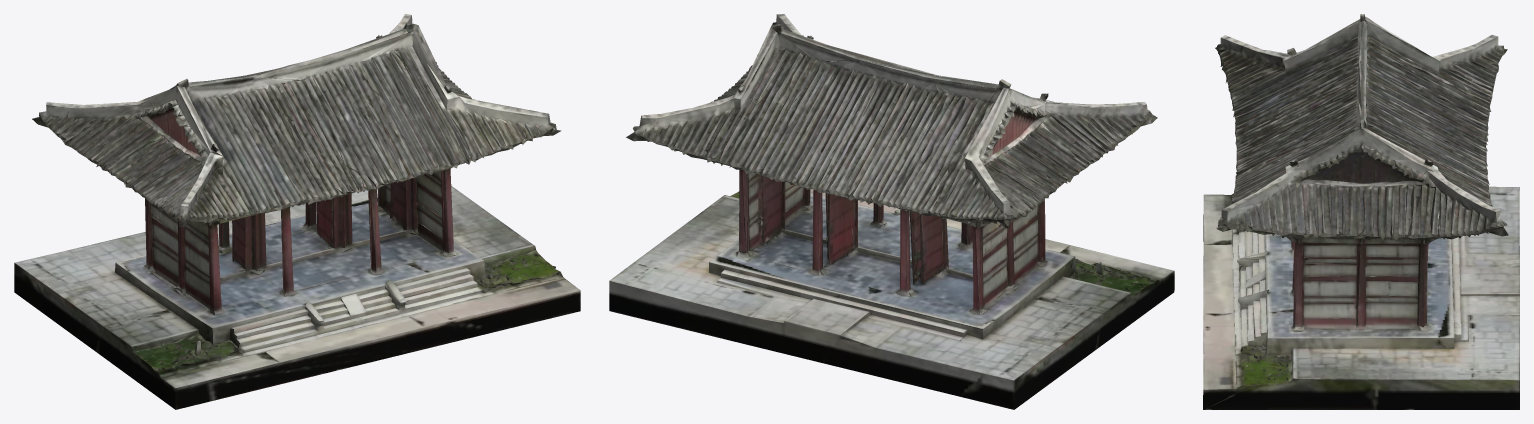
File: junghwamun-lod.glb
The picture shows the model from 3 angles, left to right: view 1: azimuth 30°, elevation 25°; view 2: azimuth 150°, elevation 25°; view 3: azimuth 270°, elevation 25°; orthographic projection.
Bounding box in the file's own units: 22.79 × 13.47 × 15.69.
Materials: 1 (1 with a texture image).
